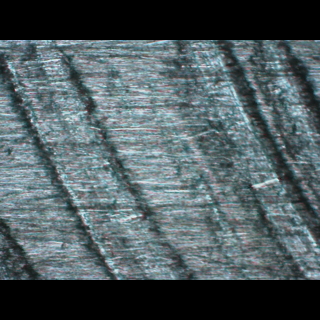d: (0, 40, 195, 277), (182, 42, 317, 279)
